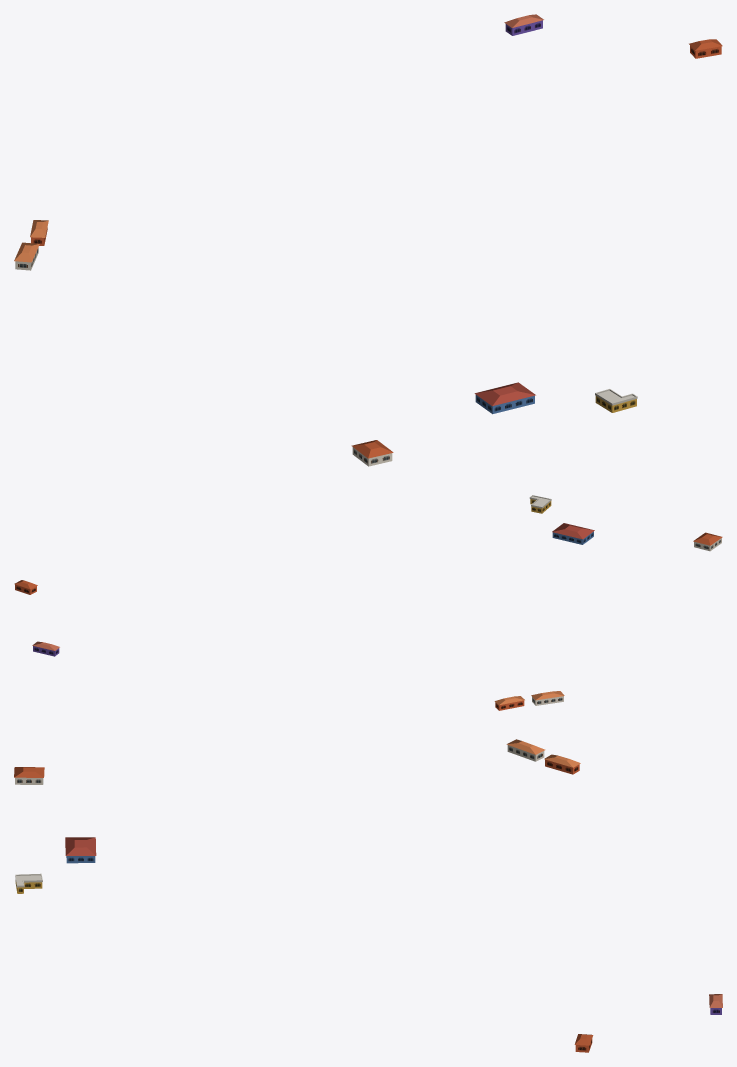
File: msb_oranjestad_m11_3.glb
3 renders of one model, top to bottom at view 1: azimuth 30°, elevation 25°; view 2: azimuth 150°, elevation 25°; view 3: azimuth 270°, elevation 25°, orthographic. The views are drawn at different scales.
Parts seen in each view (by area): view 1: msb_oranjestad_m11_3_lod0; view 2: msb_oranjestad_m11_3_lod0; view 3: msb_oranjestad_m11_3_lod0.
Part boxes in pixels (x1,y1,x2,y2): msb_oranjestad_m11_3_lod0: (14, 14, 722, 466); msb_oranjestad_m11_3_lod0: (14, 495, 722, 710); msb_oranjestad_m11_3_lod0: (14, 739, 722, 1052).
Size of what is drawn, in the model's own units: 317 by 11.6 by 302.
Materials: 3 (1 with a texture image).
